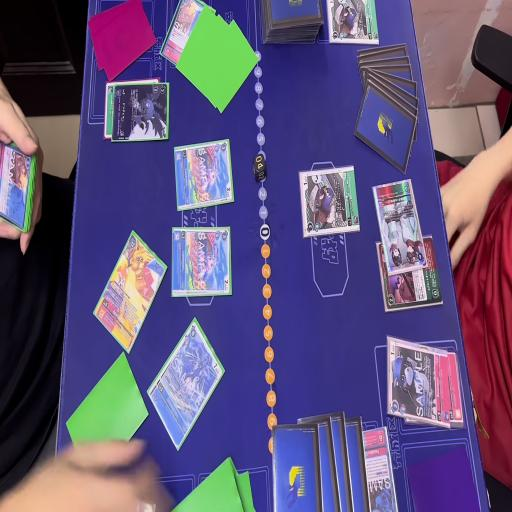card: (151, 318, 221, 454), (92, 229, 166, 355), (385, 340, 449, 421), (373, 174, 424, 275), (376, 236, 437, 316), (298, 164, 363, 238), (171, 226, 230, 302), (174, 138, 232, 214), (157, 0, 216, 69), (113, 85, 172, 146), (0, 140, 34, 238), (361, 426, 397, 512), (325, 0, 377, 47), (447, 346, 465, 426), (102, 76, 113, 139)
